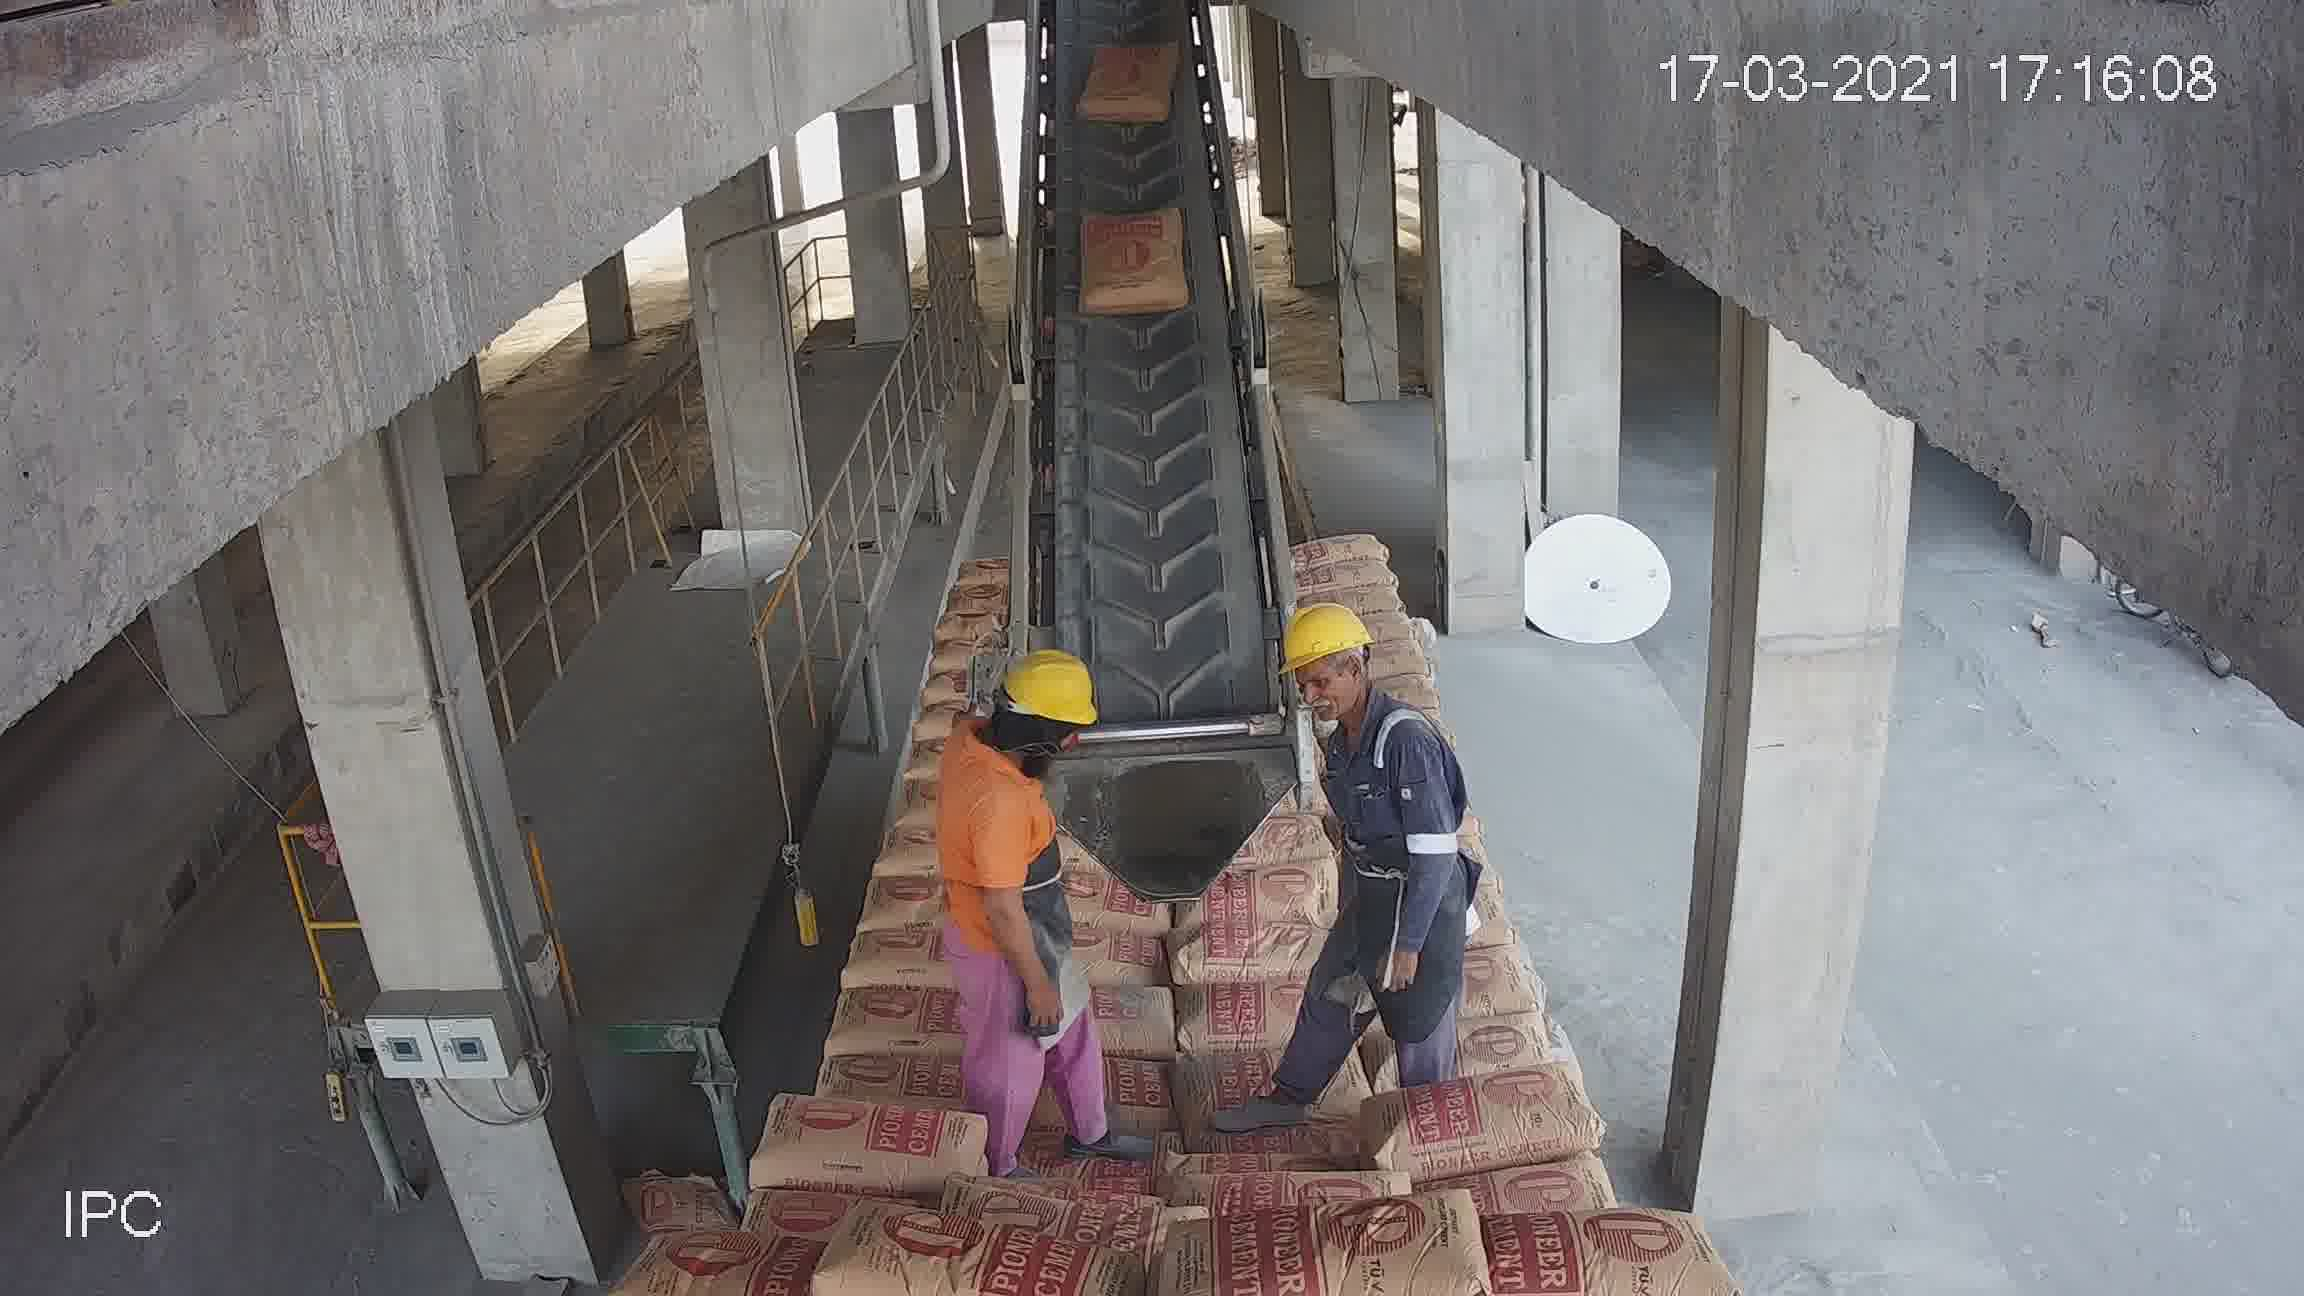bag: (1000, 70, 1287, 881), (1078, 201, 1195, 312), (1078, 41, 1179, 120)
bag_h: (1201, 1184, 1525, 1294), (1351, 1073, 1595, 1179), (804, 1218, 1128, 1294), (753, 1097, 999, 1195), (1449, 1207, 1703, 1296), (1040, 1054, 1204, 1154), (635, 1230, 843, 1296), (1180, 864, 1332, 945), (810, 1032, 972, 1105), (1166, 984, 1313, 1060), (812, 987, 970, 1055), (1174, 926, 1320, 992), (829, 919, 942, 992), (1287, 530, 1394, 570), (1293, 559, 1396, 597)
